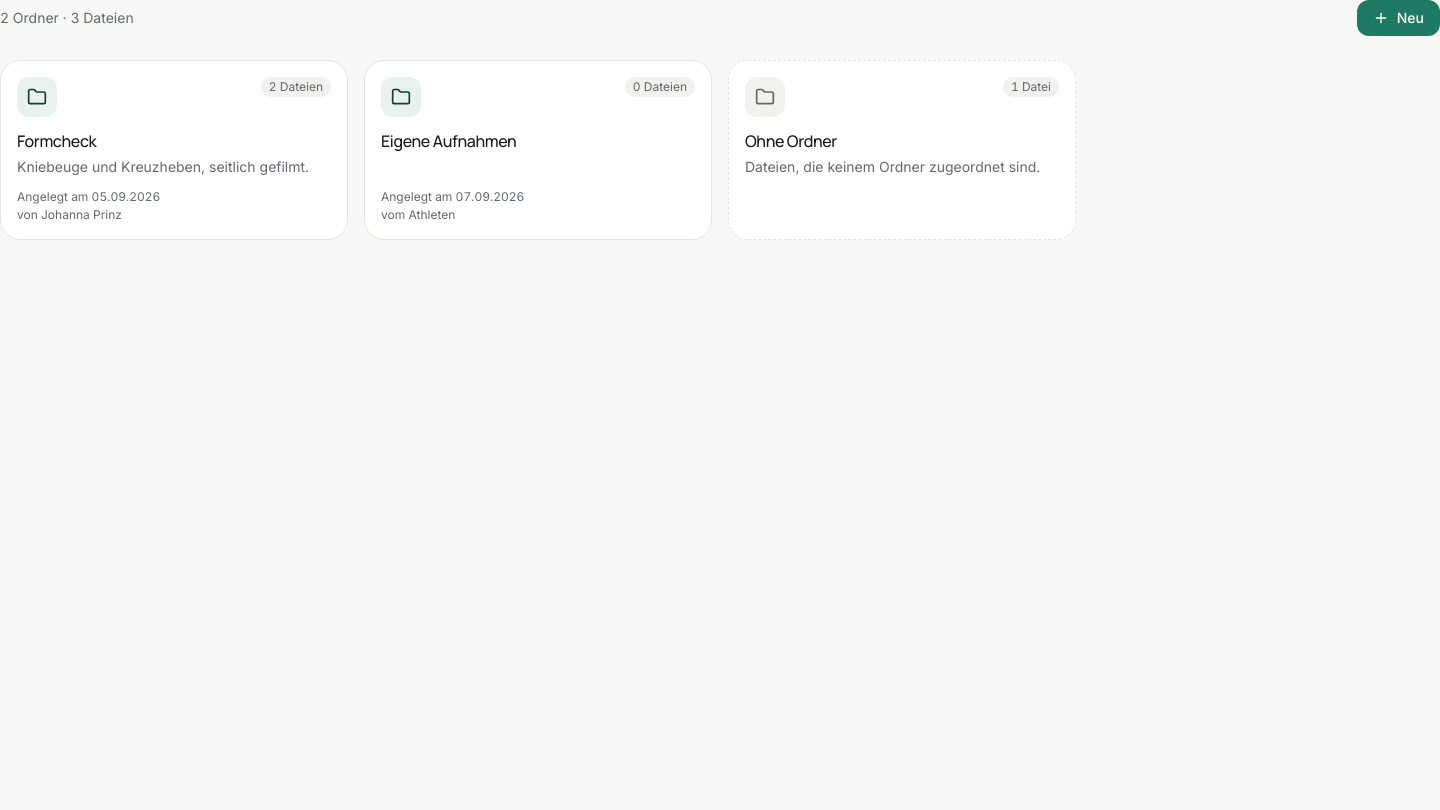
Test: putting something here › creates a folder with a name and a description
The width and height of the screenshot is (1440, 810).
Step 1. Click the button "Neu" → point(1398, 18), box [1357, 0, 1439, 36]
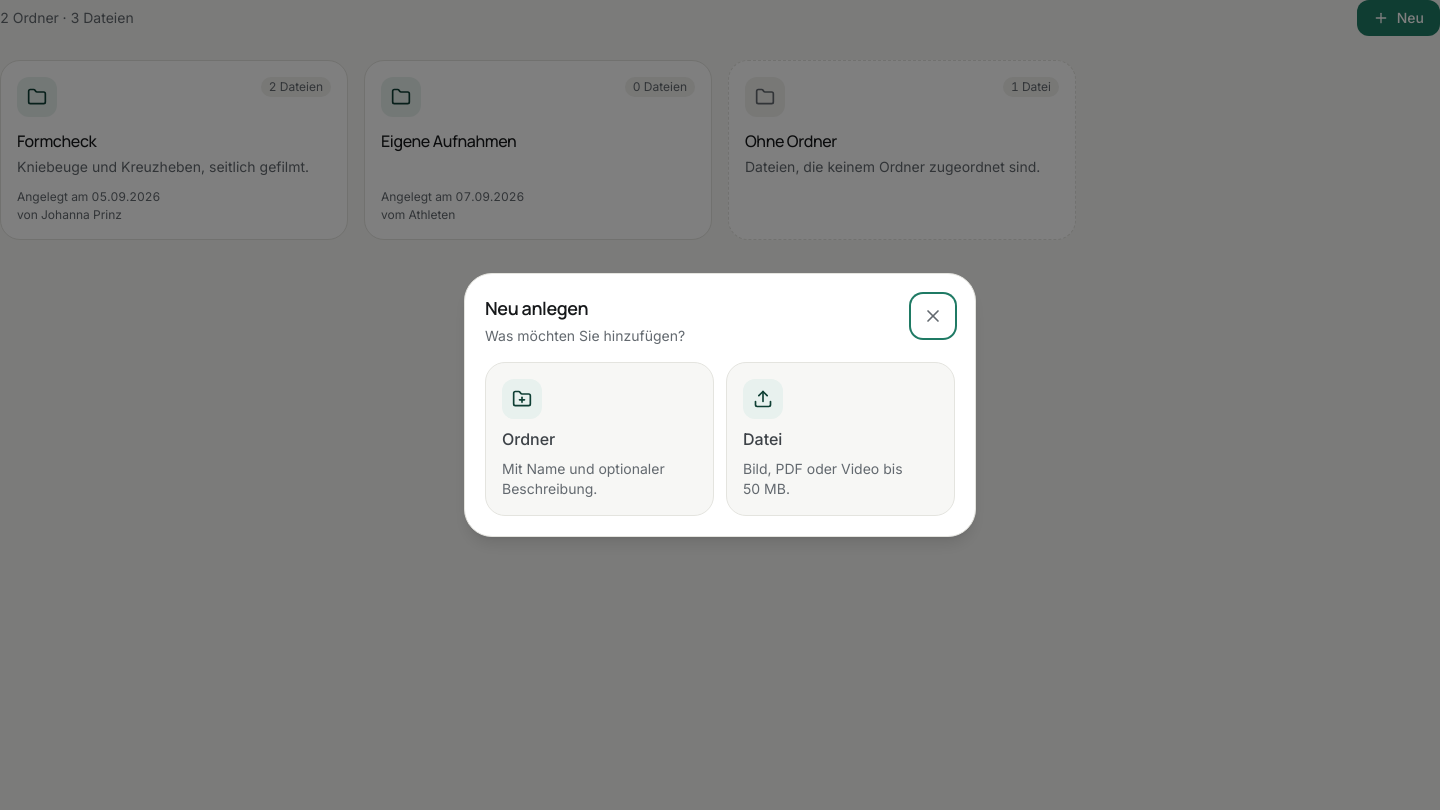
Step 2. Click the button "Ordner Mit Name und optionaler Beschreibung." → point(600, 439), box [485, 362, 714, 516]
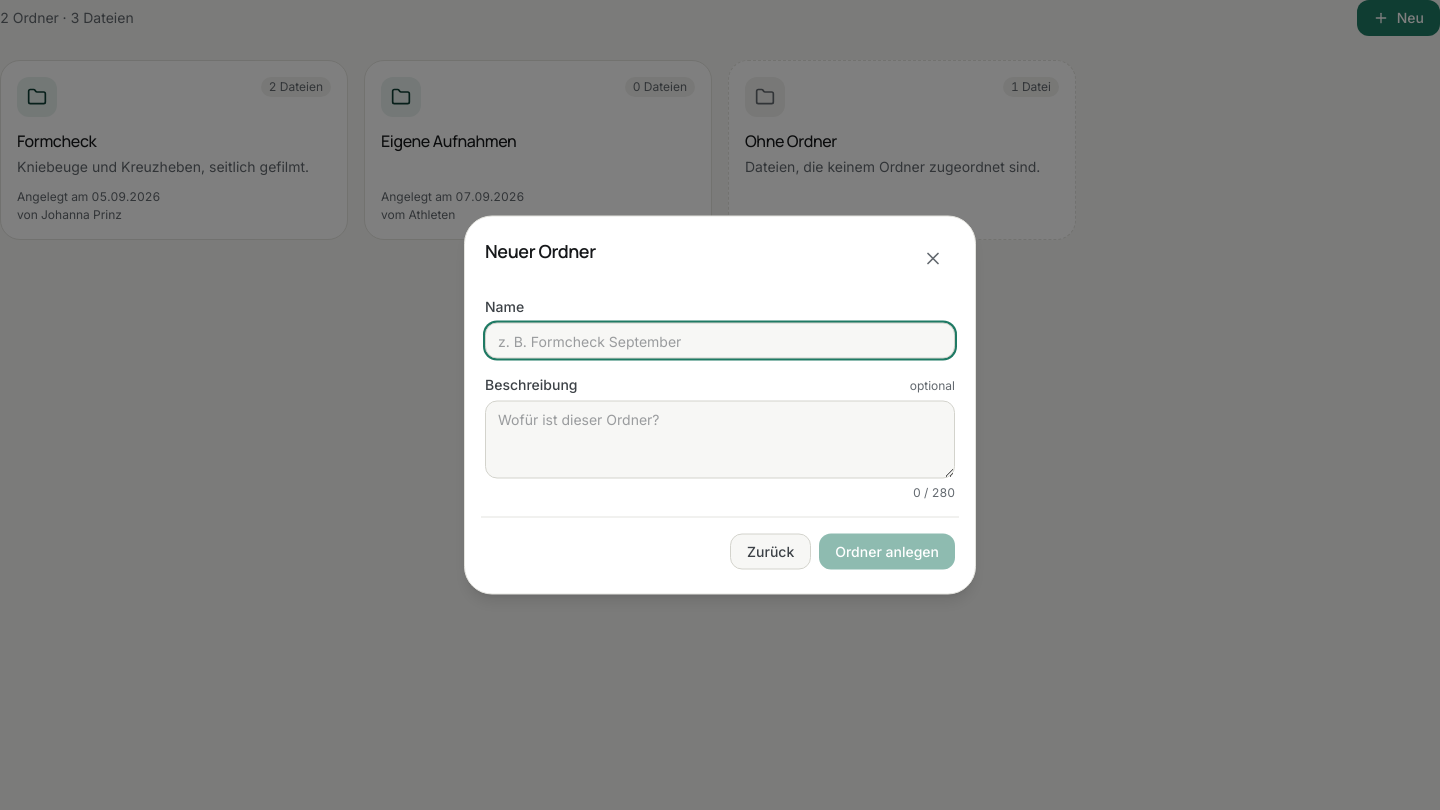
Step 3. Type "Befunde" into the field labelled "Name" → point(720, 340), box [485, 322, 955, 358]
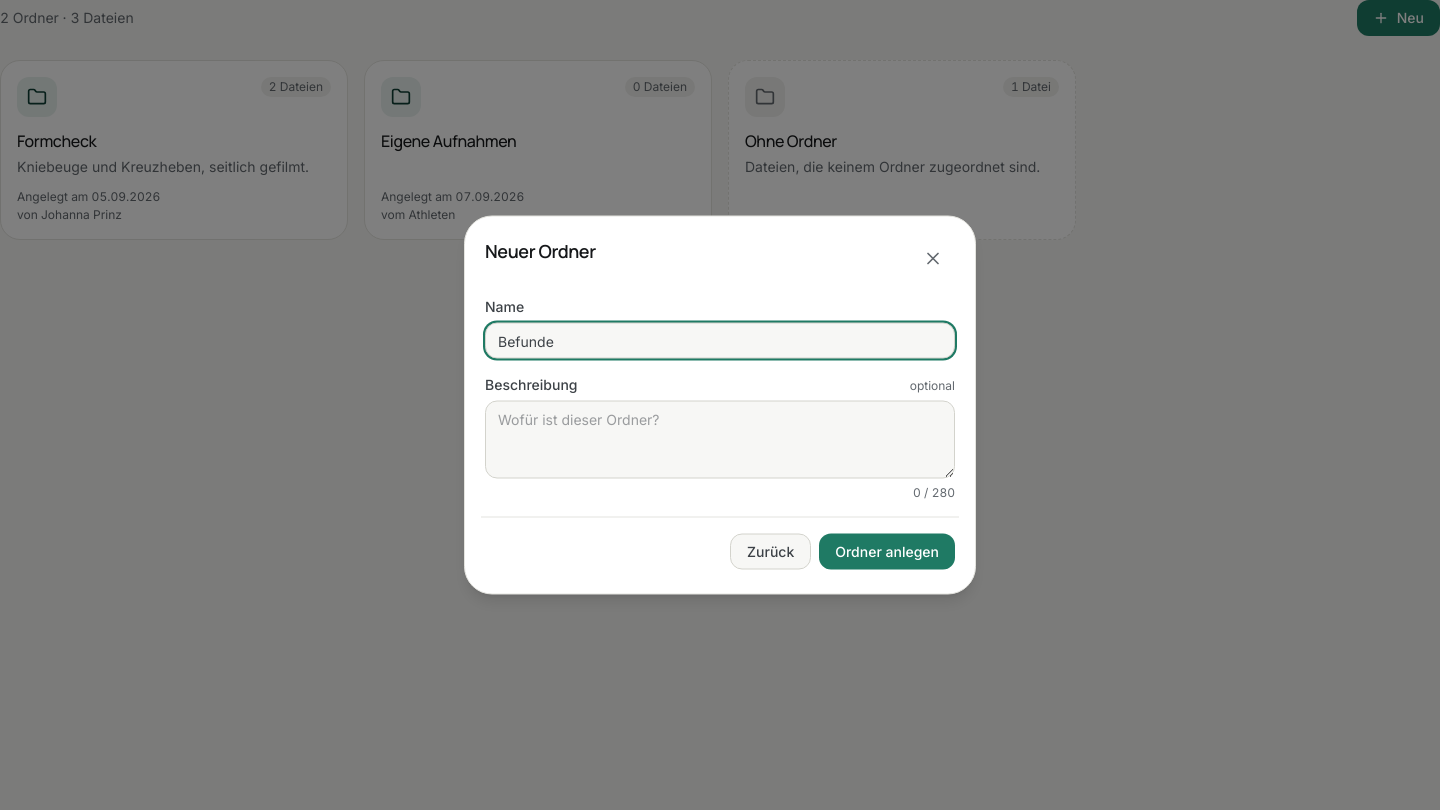
Step 4. Type "Arztbriefe und MRT" into the text box labelled "Beschreibung optional 0 / 280" → point(720, 440), box [485, 400, 955, 478]
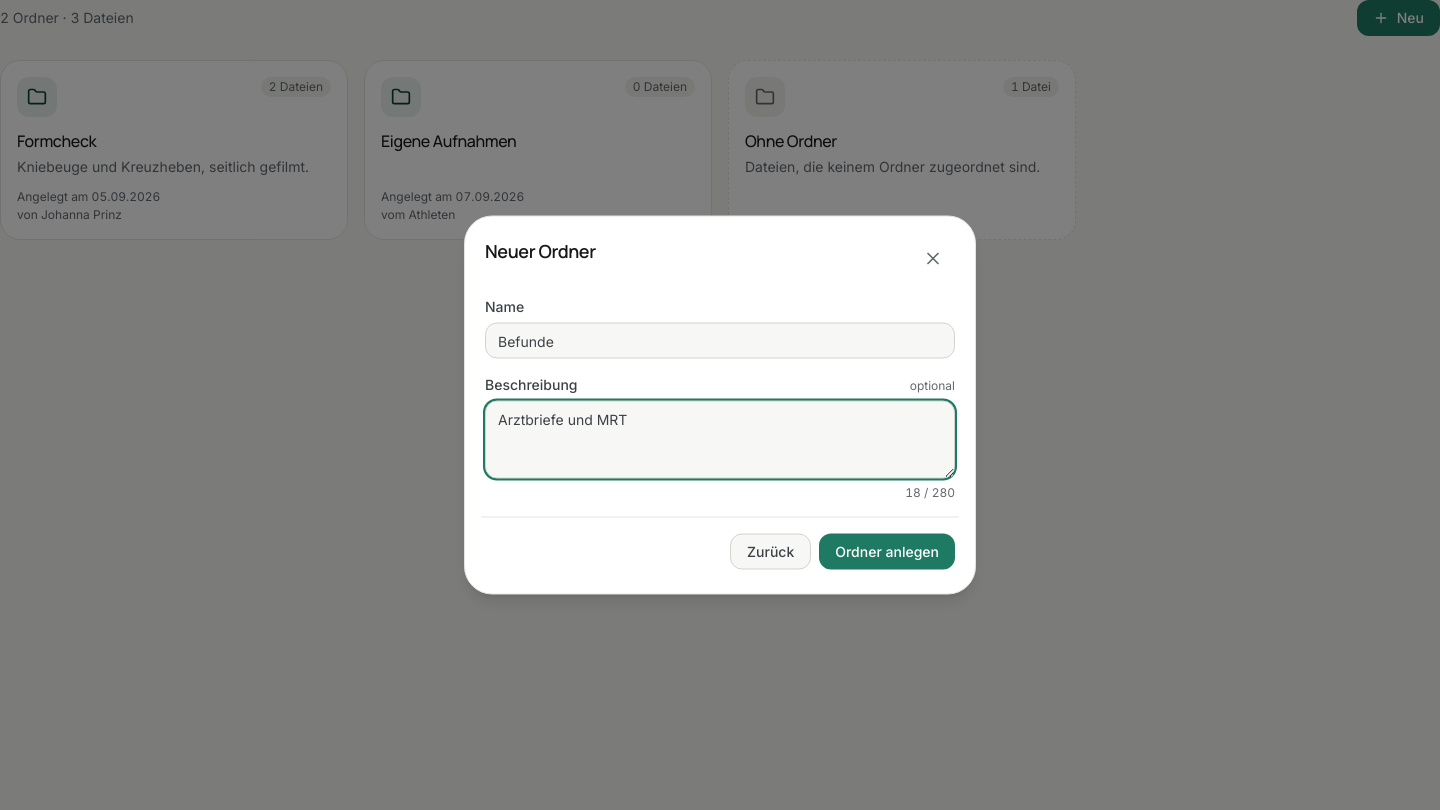
Step 5. Click the button "Ordner anlegen" → point(887, 552), box [819, 534, 955, 570]
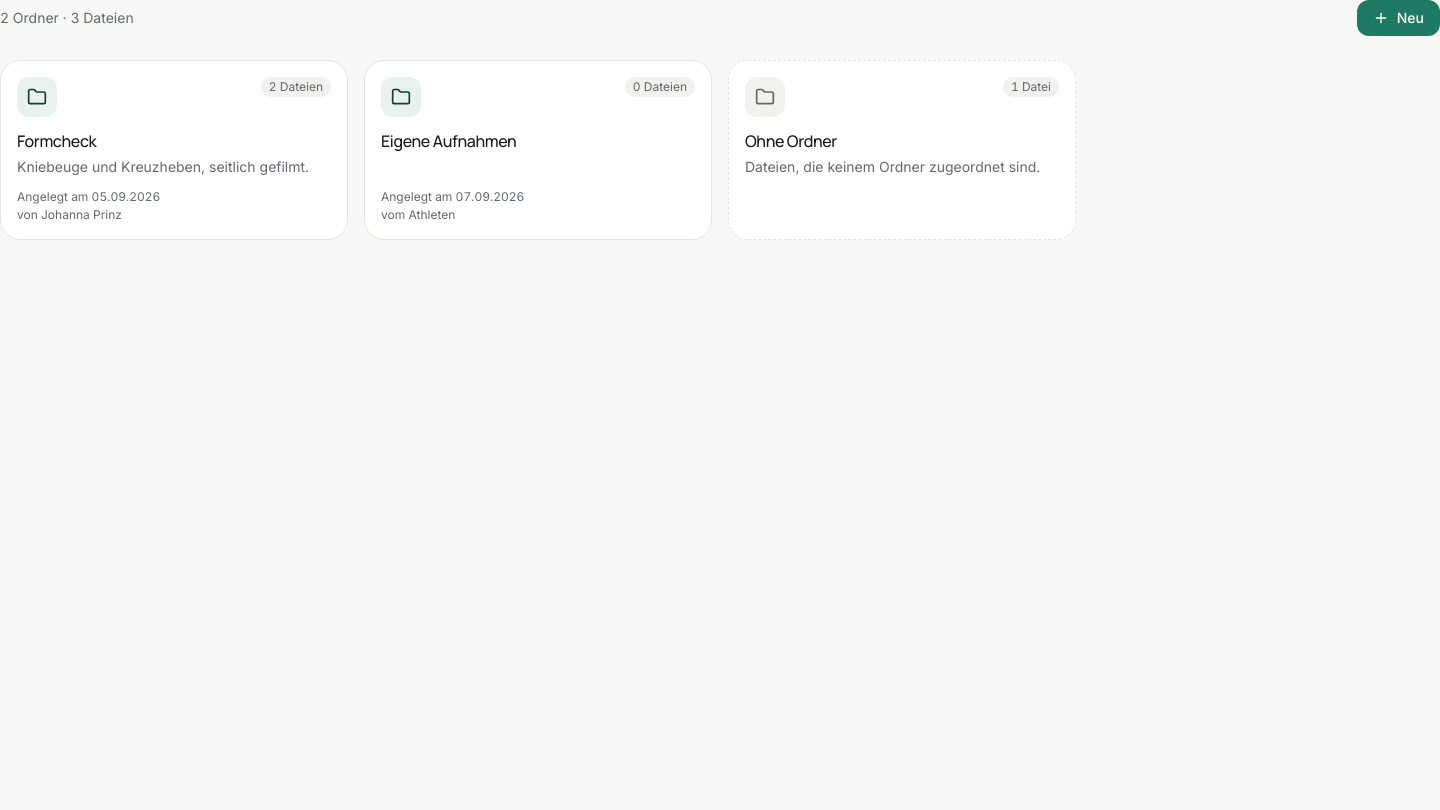
Check: the button "Neu" is shown, box [1357, 0, 1439, 36]
Check: the dialog is gone
